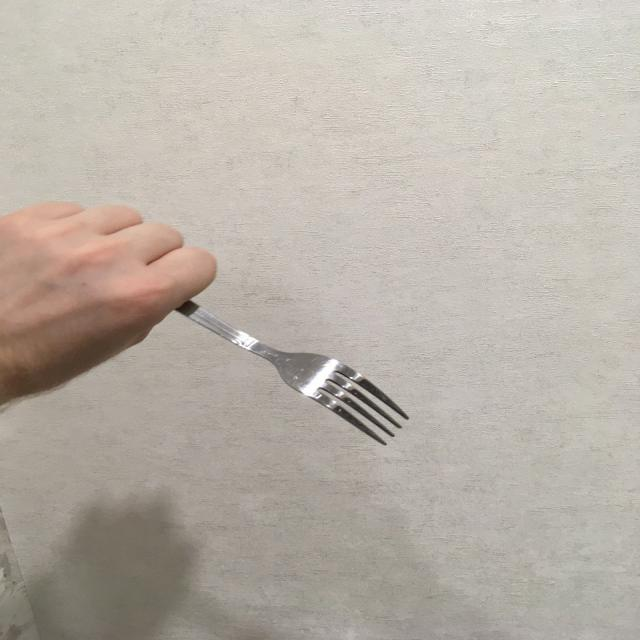fork: (116, 246, 412, 446)
